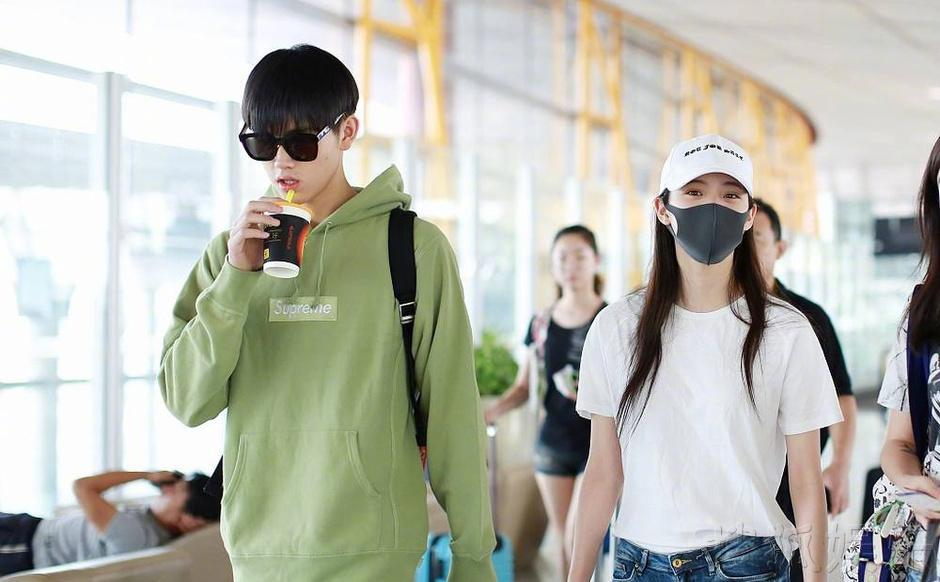NONE: (256, 119, 336, 200), (556, 245, 592, 288)
OK: (667, 173, 758, 264)
